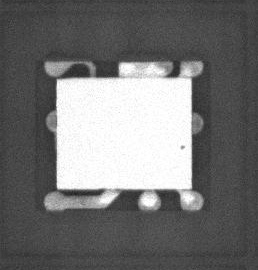DIE_INK: (170, 150, 179, 158)
